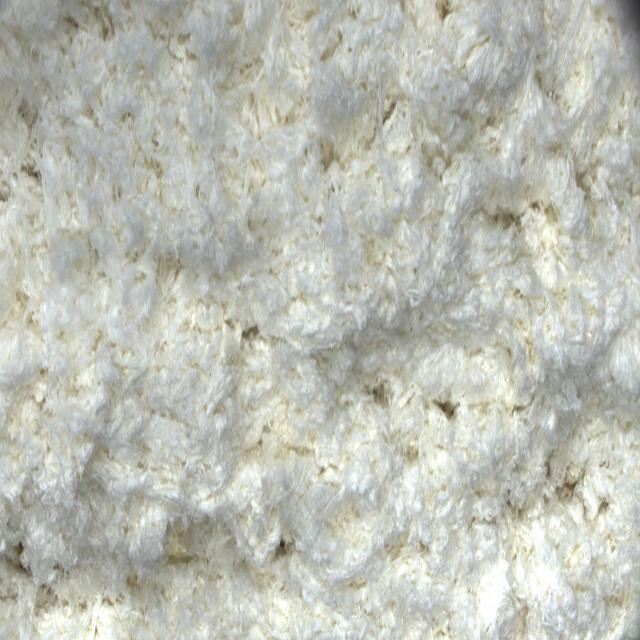dust: (428, 391, 463, 427), (274, 524, 294, 574)
